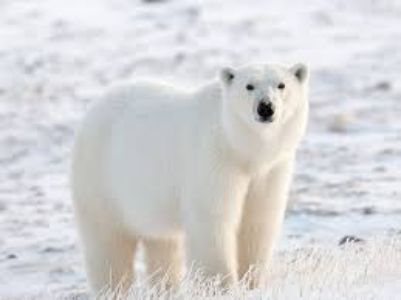bear: (71, 56, 317, 292)
